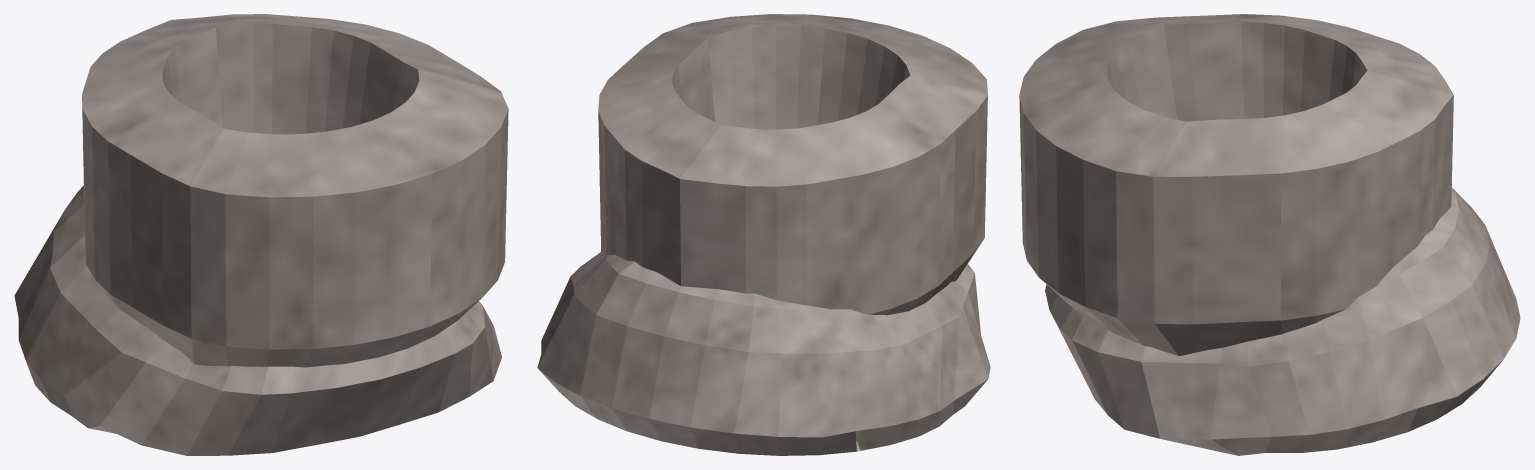
The model's file is facescarf.fbx.
3 views of the same model, side by side, from view 1: azimuth 30°, elevation 25°; view 2: azimuth 150°, elevation 25°; view 3: azimuth 270°, elevation 25° (orthographic). The views are drawn at different scales.
Parts seen in each view (by area): view 1: facescarfface, facescarfchest; view 2: facescarfface, facescarfchest; view 3: facescarfface, facescarfchest.
Part boxes in pixels (x1,y1,x2,y2): facescarfface: (82,14,508,367); facescarfchest: (14,185,501,455); facescarfface: (598,14,987,315); facescarfchest: (537,250,990,455); facescarfface: (1019,14,1453,355); facescarfchest: (1045,187,1520,455).
Bounding box in the file's own units: 32.25 × 23.42 × 35.68.
